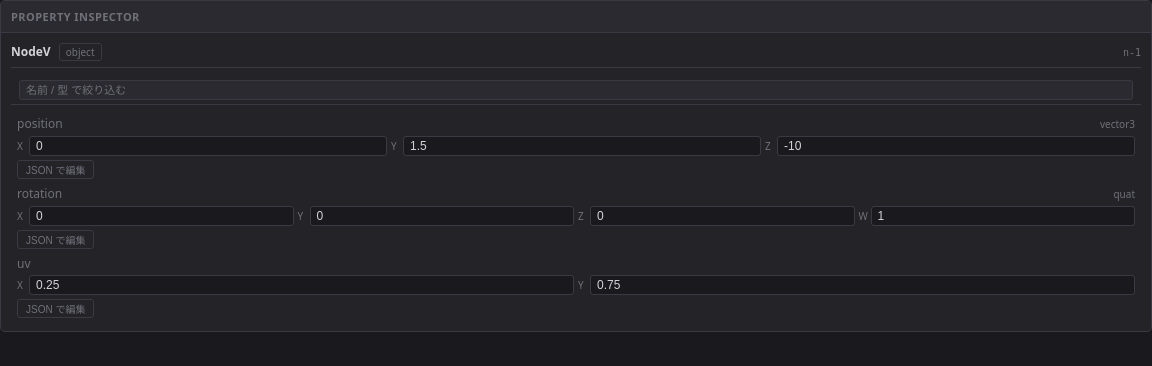
Test: PropertyInspectorPanel — vector editor › says the input is unreadable when the browser reports bad input
Clear the number field named "position X" at point(208, 146), box [29, 136, 387, 156]
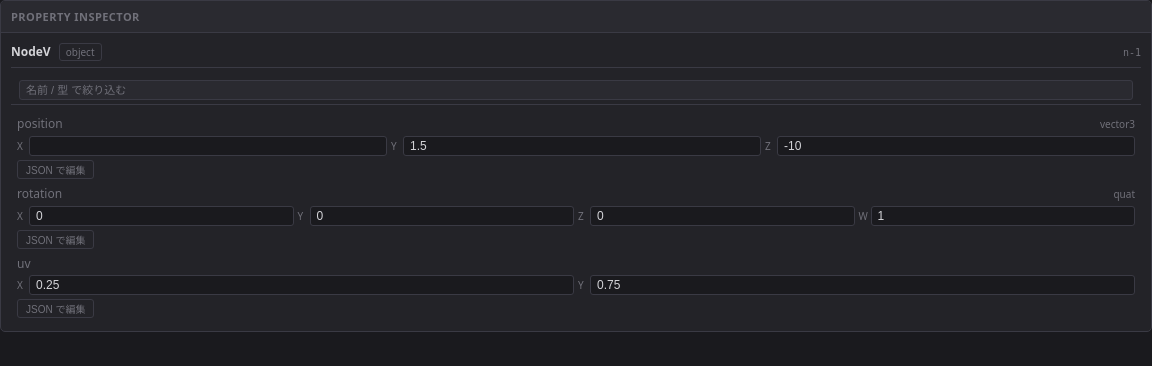
Leave the number field named "position X", box [29, 136, 387, 156]
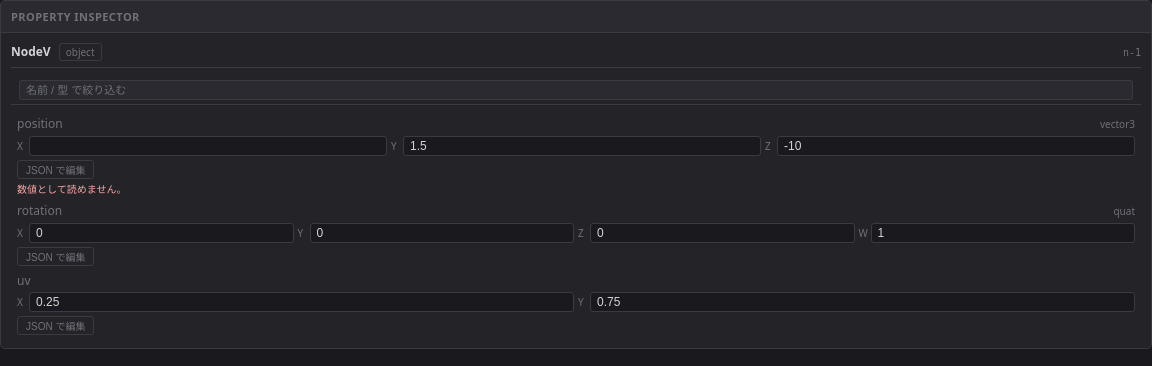
Expected: the text "数値として読めません。" is shown, [17, 182, 126, 196]
